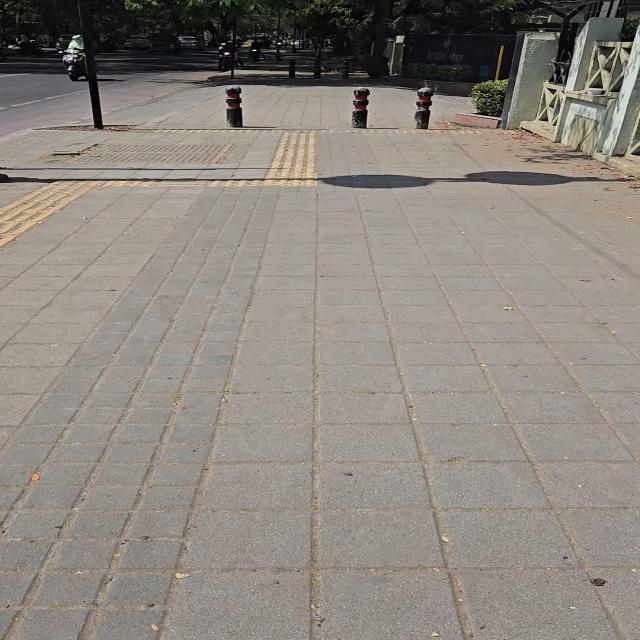bench: (415, 88, 433, 129), (352, 88, 369, 128), (226, 86, 242, 127), (314, 56, 321, 78), (288, 60, 296, 79), (341, 60, 349, 78), (0, 173, 9, 182)
bike: (78, 0, 103, 129), (75, 144, 233, 164), (63, 35, 87, 81), (415, 88, 433, 129), (352, 88, 369, 128), (230, 20, 237, 78), (275, 3, 281, 60), (495, 45, 504, 80)
